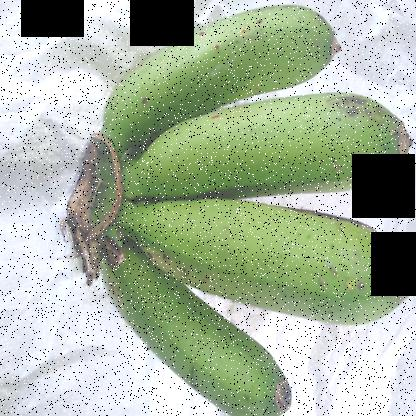unripe: (76, 1, 348, 150), (117, 75, 415, 203), (95, 238, 301, 415), (127, 208, 415, 331)
